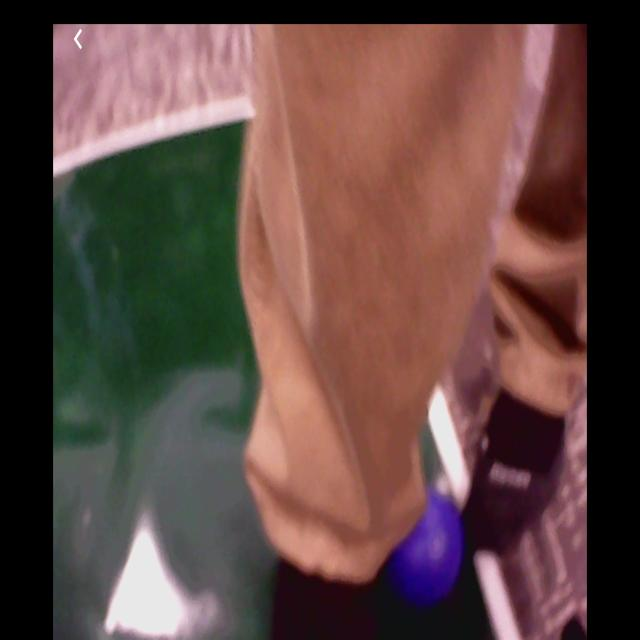ball: (392, 483, 462, 601)
